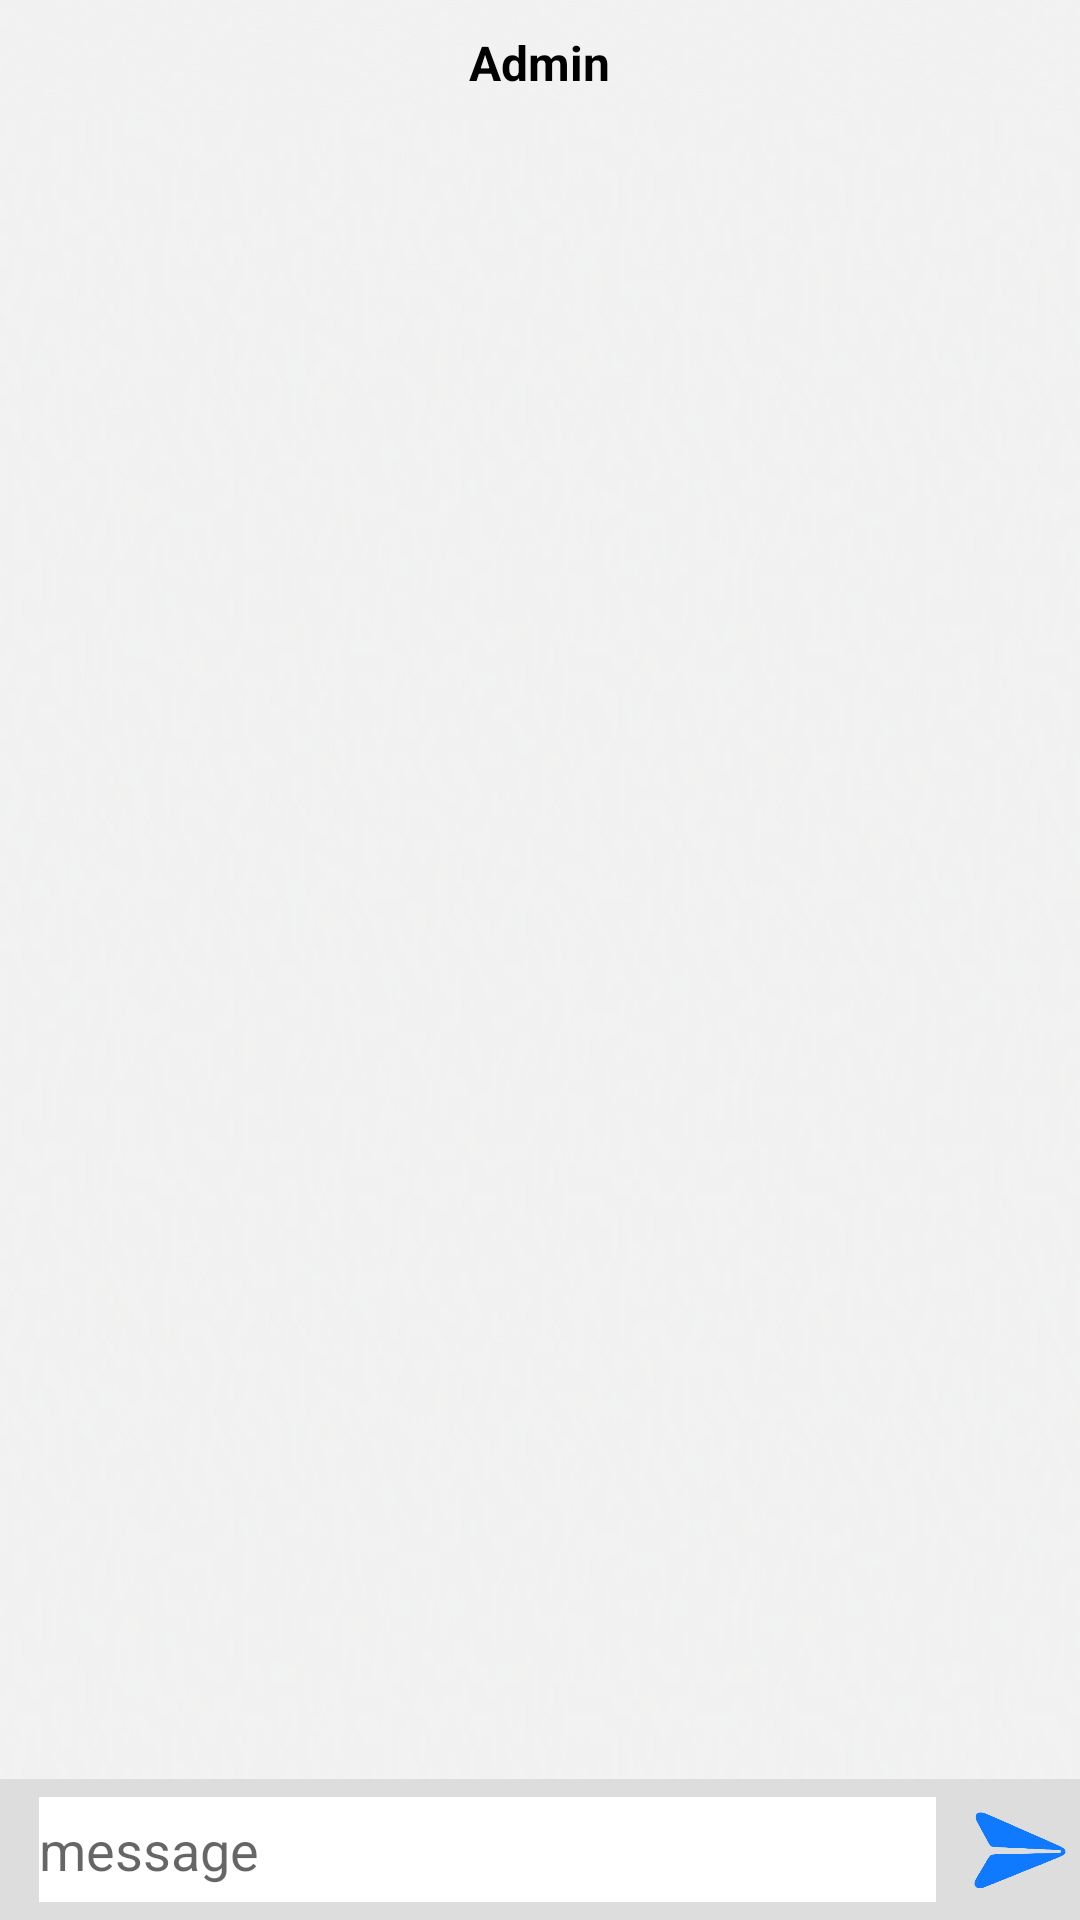

Named icons in this screenshot (1080*1920) and their centers, point (x, y):
send: point (1020, 1850)
